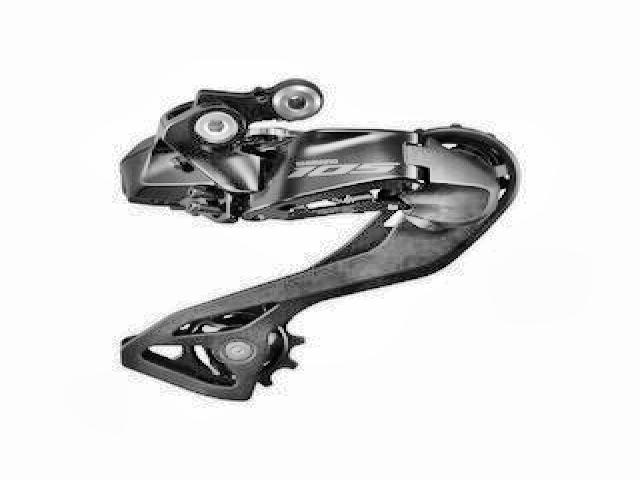rear_derailleur: (115, 73, 524, 403)
